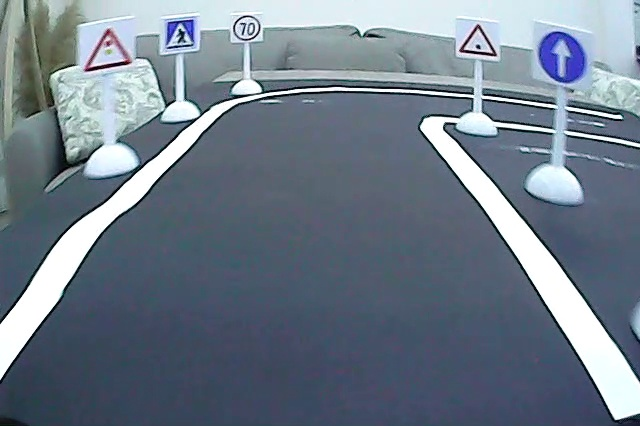green light: (456, 21, 501, 60)
pedestrian crossing: (165, 17, 198, 51)
red light: (84, 25, 134, 73)
speed limit 70: (229, 13, 263, 44)
